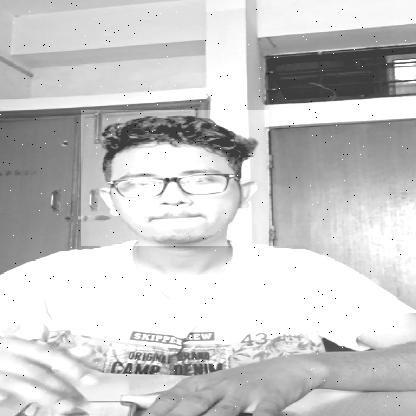Normal: (81, 110, 269, 246)
